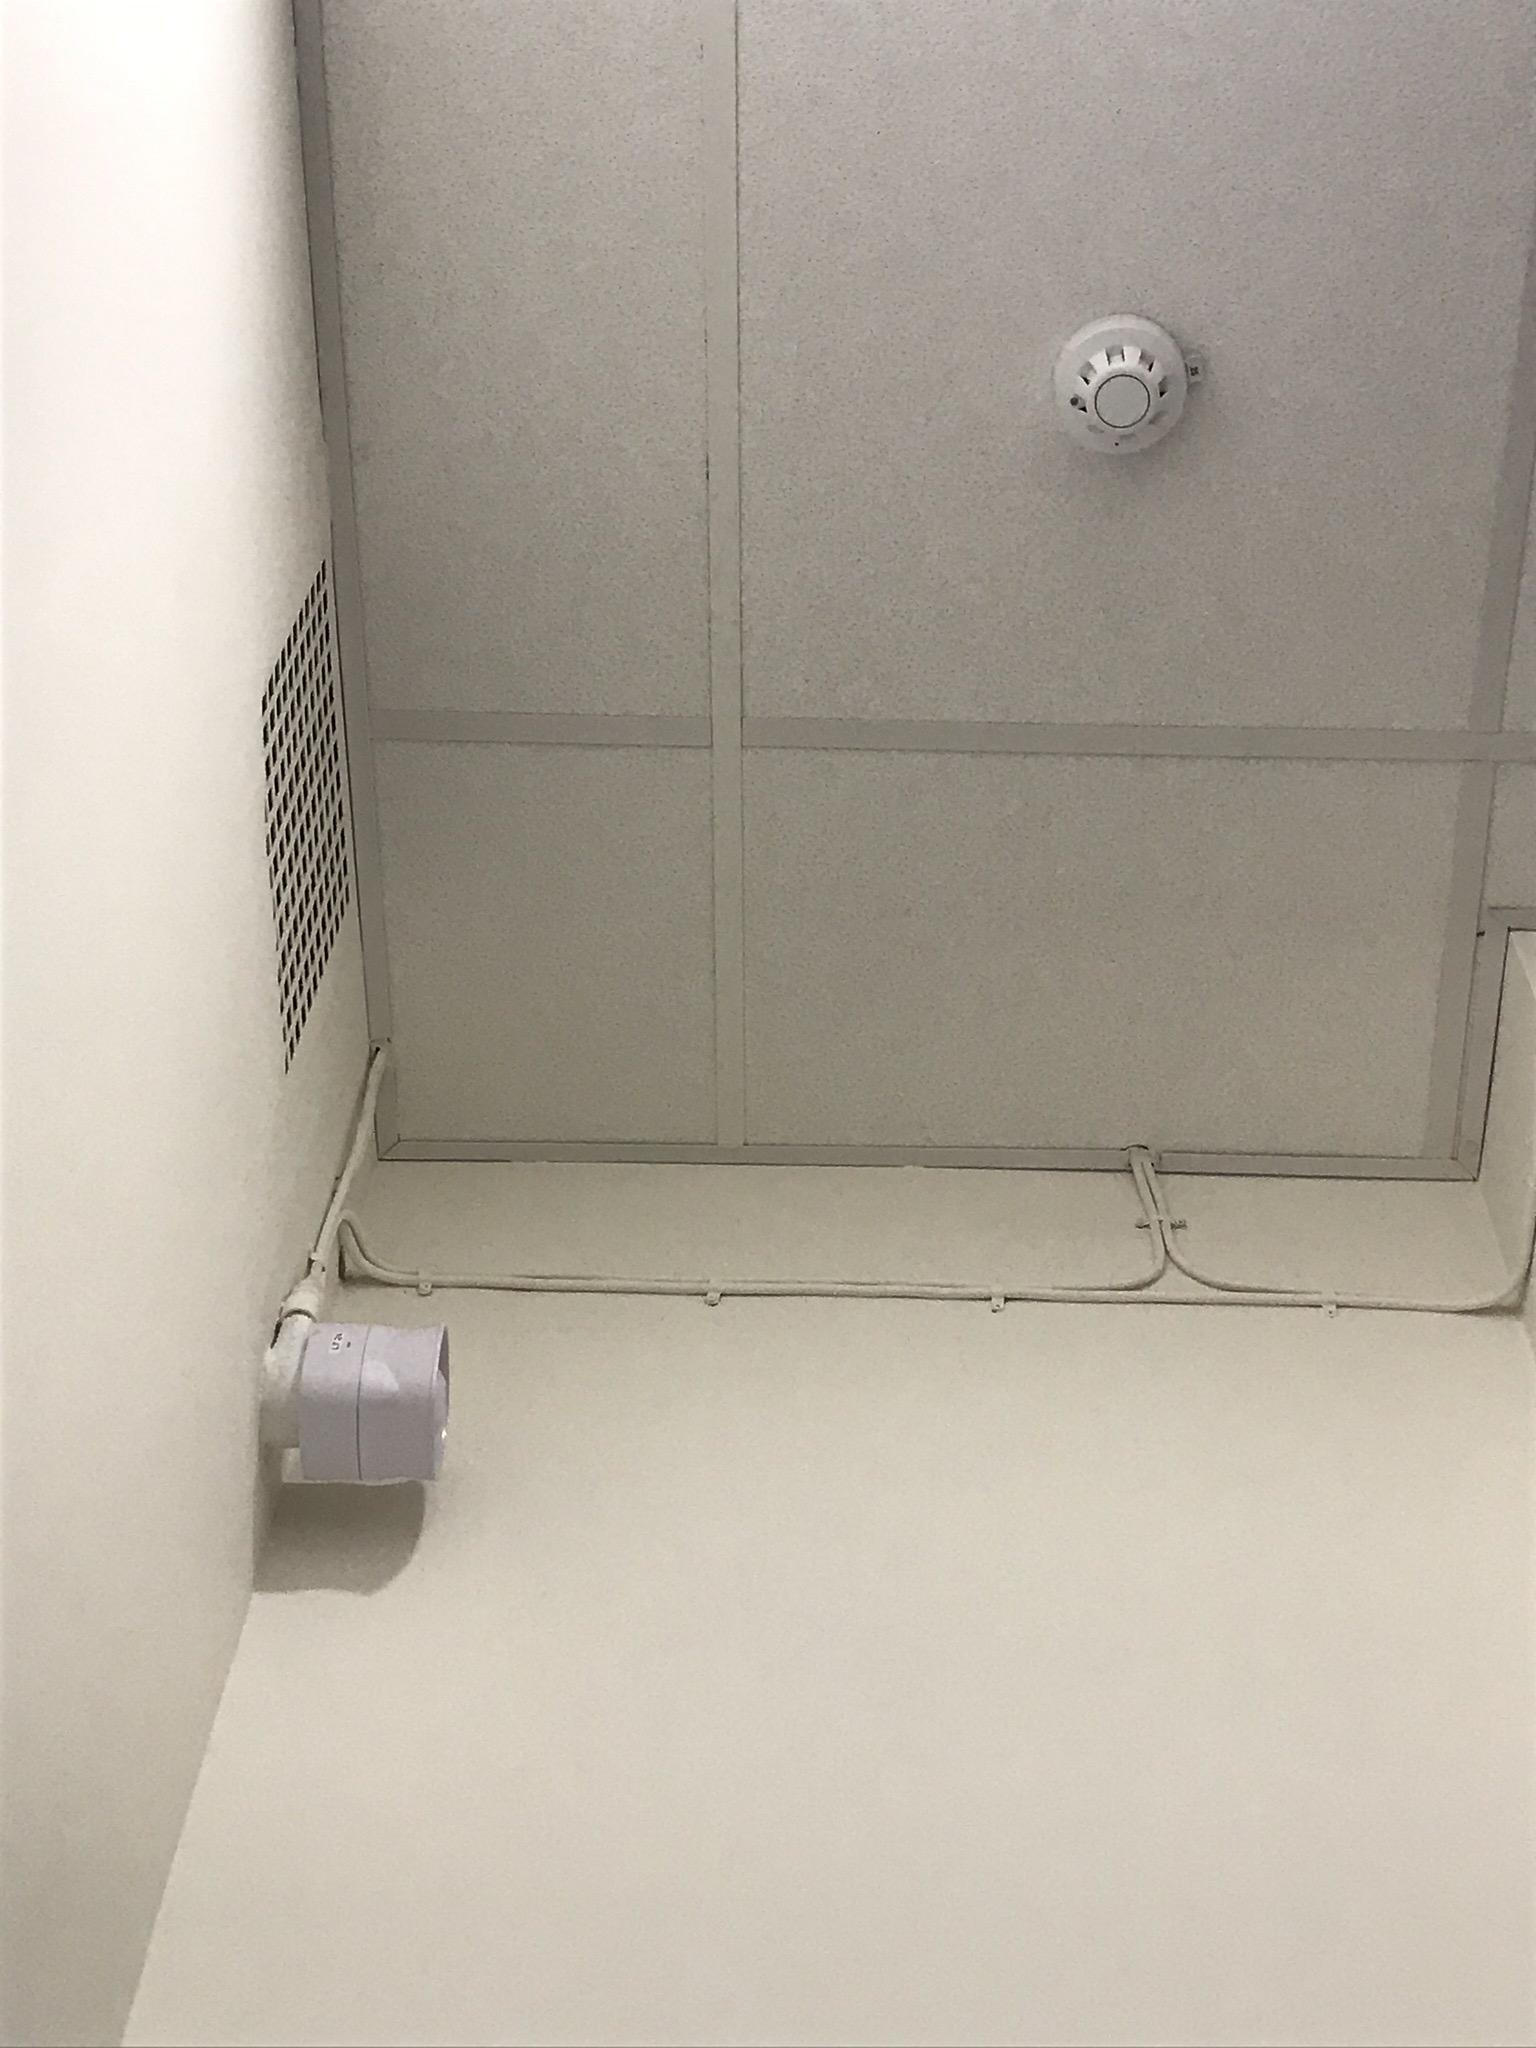detector: (1050, 311, 1205, 456)
